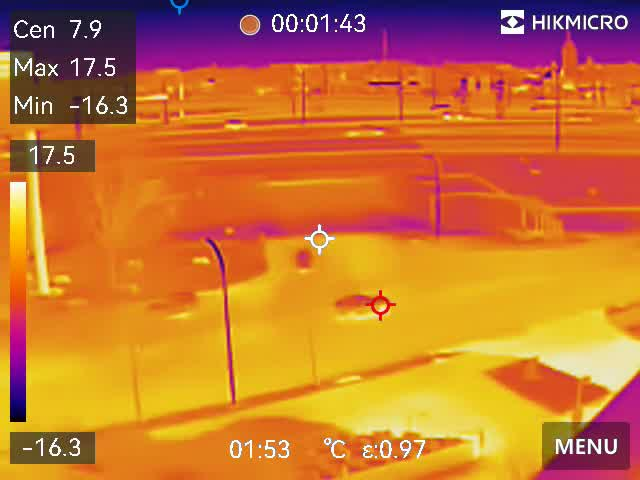smallCar: (292, 246, 317, 275)
vehicle: (329, 293, 386, 320), (139, 291, 202, 315), (341, 121, 385, 140), (217, 118, 253, 133), (437, 110, 466, 123)
